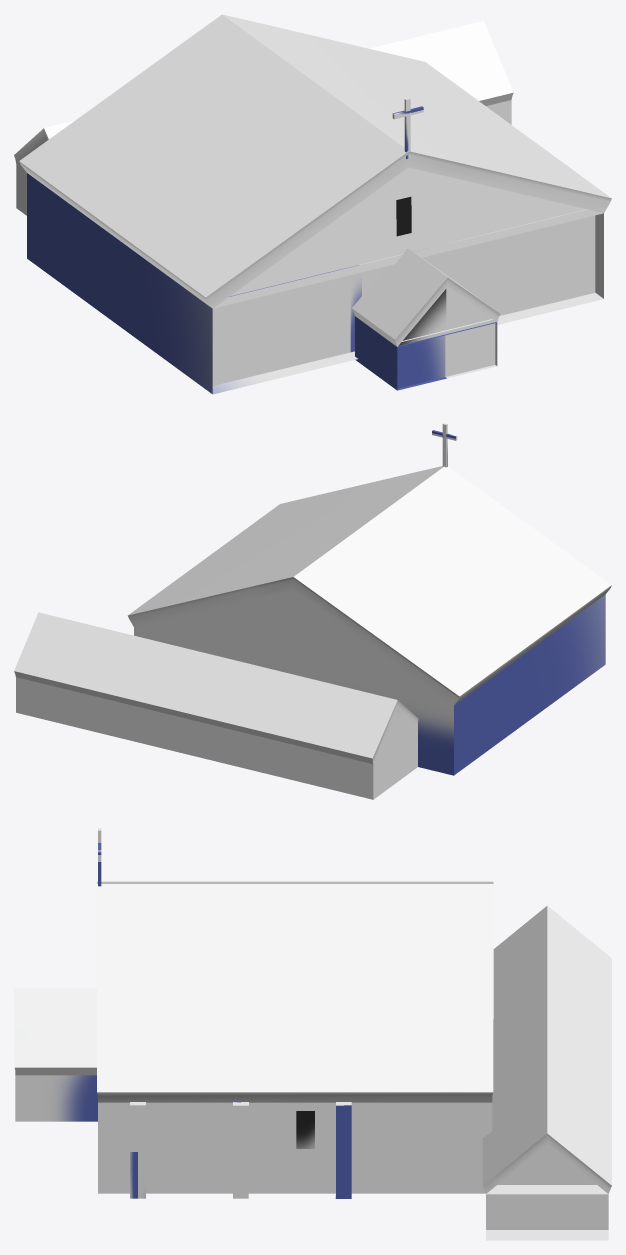
Rendered from Church2.fbx.
3 renders of one model, top to bottom at view 1: azimuth 30°, elevation 25°; view 2: azimuth 150°, elevation 25°; view 3: azimuth 270°, elevation 25°, orthographic. The views are drawn at different scales.
Parts seen in each view (by area): view 1: CL_Merged_cube_NewUVs1_4_CL_Merged_cube_NewUVs1_40_0; view 2: CL_Merged_cube_NewUVs1_4_CL_Merged_cube_NewUVs1_40_0; view 3: CL_Merged_cube_NewUVs1_4_CL_Merged_cube_NewUVs1_40_0.
Part boxes in pixels (left/top/right/bottom): CL_Merged_cube_NewUVs1_4_CL_Merged_cube_NewUVs1_40_0: left=14, top=14, right=611, bottom=394; CL_Merged_cube_NewUVs1_4_CL_Merged_cube_NewUVs1_40_0: left=14, top=423, right=611, bottom=799; CL_Merged_cube_NewUVs1_4_CL_Merged_cube_NewUVs1_40_0: left=14, top=828, right=611, bottom=1240.
Bounding box in the file's own units: 25.04 × 12.24 × 24.92.
